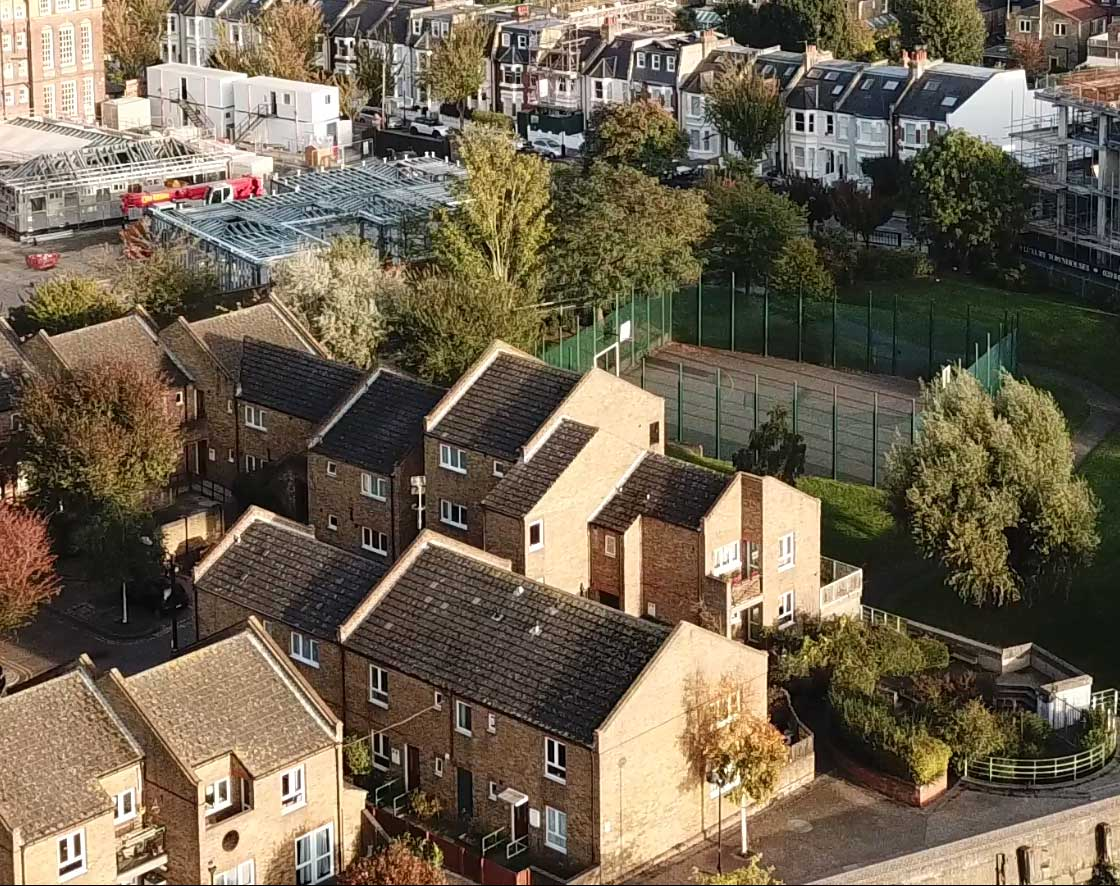building: (199, 516, 837, 868), (186, 310, 837, 624)
tree: (892, 369, 1108, 610), (15, 352, 188, 535), (679, 667, 794, 878), (456, 142, 566, 312)
